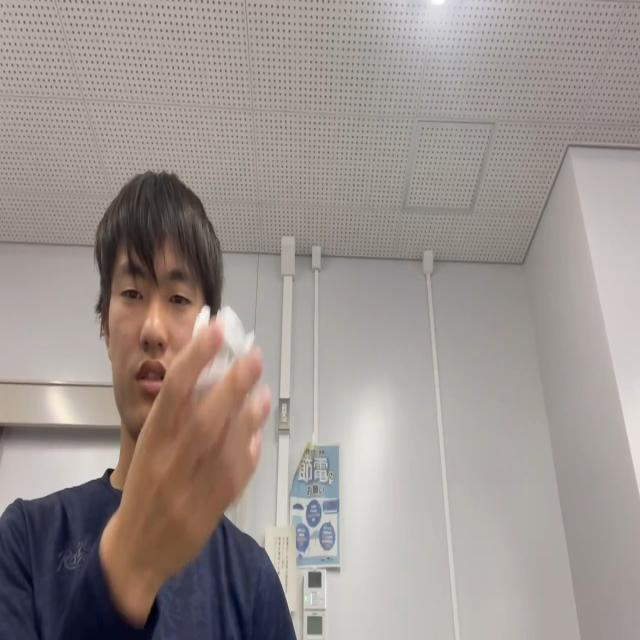paper: (191, 304, 255, 394)
